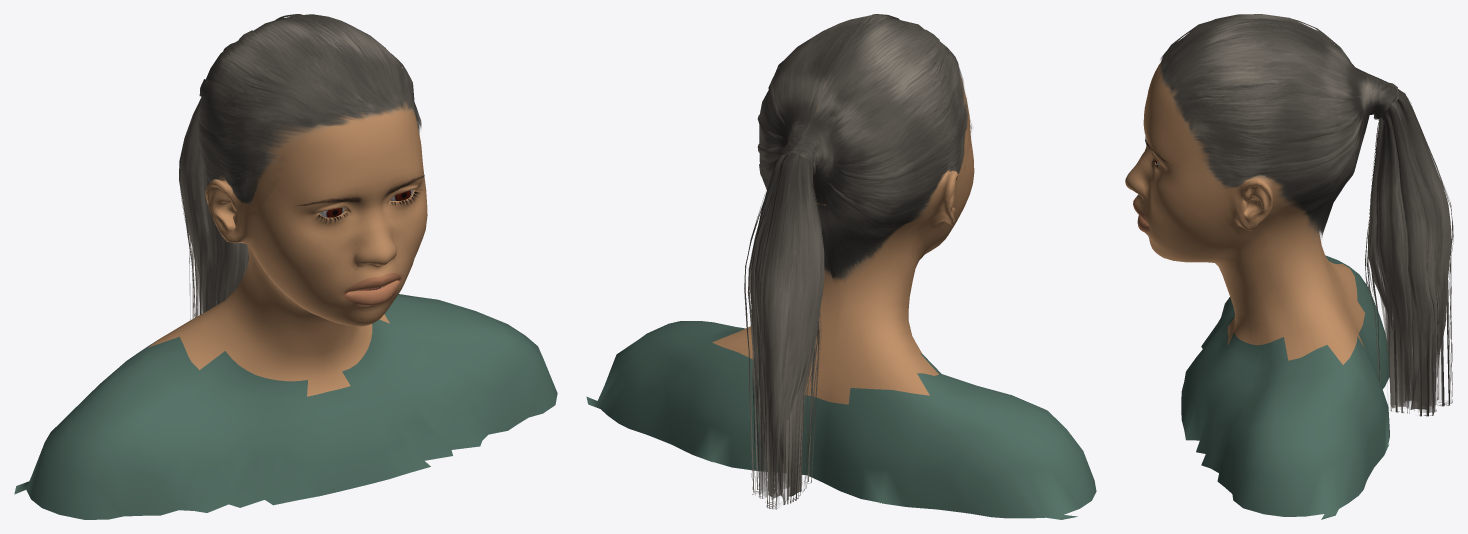
Rendered from woman-07.glb.
The picture shows the model from 3 angles, left to right: view 1: azimuth 30°, elevation 25°; view 2: azimuth 150°, elevation 25°; view 3: azimuth 270°, elevation 25°; orthographic projection. The views are drawn at different scales.
Visible parts, largest first — view 1: mpfb-face, mpfb-face.ponytail01; view 2: mpfb-face, mpfb-face.ponytail01; view 3: mpfb-face, mpfb-face.ponytail01.
Part boxes in pixels (left/top/right/bottom): mpfb-face: left=14, top=102, right=557, bottom=519; mpfb-face.ponytail01: left=179, top=14, right=421, bottom=320; mpfb-face: left=586, top=76, right=1096, bottom=519; mpfb-face.ponytail01: left=744, top=14, right=968, bottom=509; mpfb-face: left=1125, top=62, right=1389, bottom=519; mpfb-face.ponytail01: left=1160, top=14, right=1453, bottom=416.
Size of the model in its own units: 0.4272 by 0.3371 by 0.2598.
9 materials, 6 textured.
